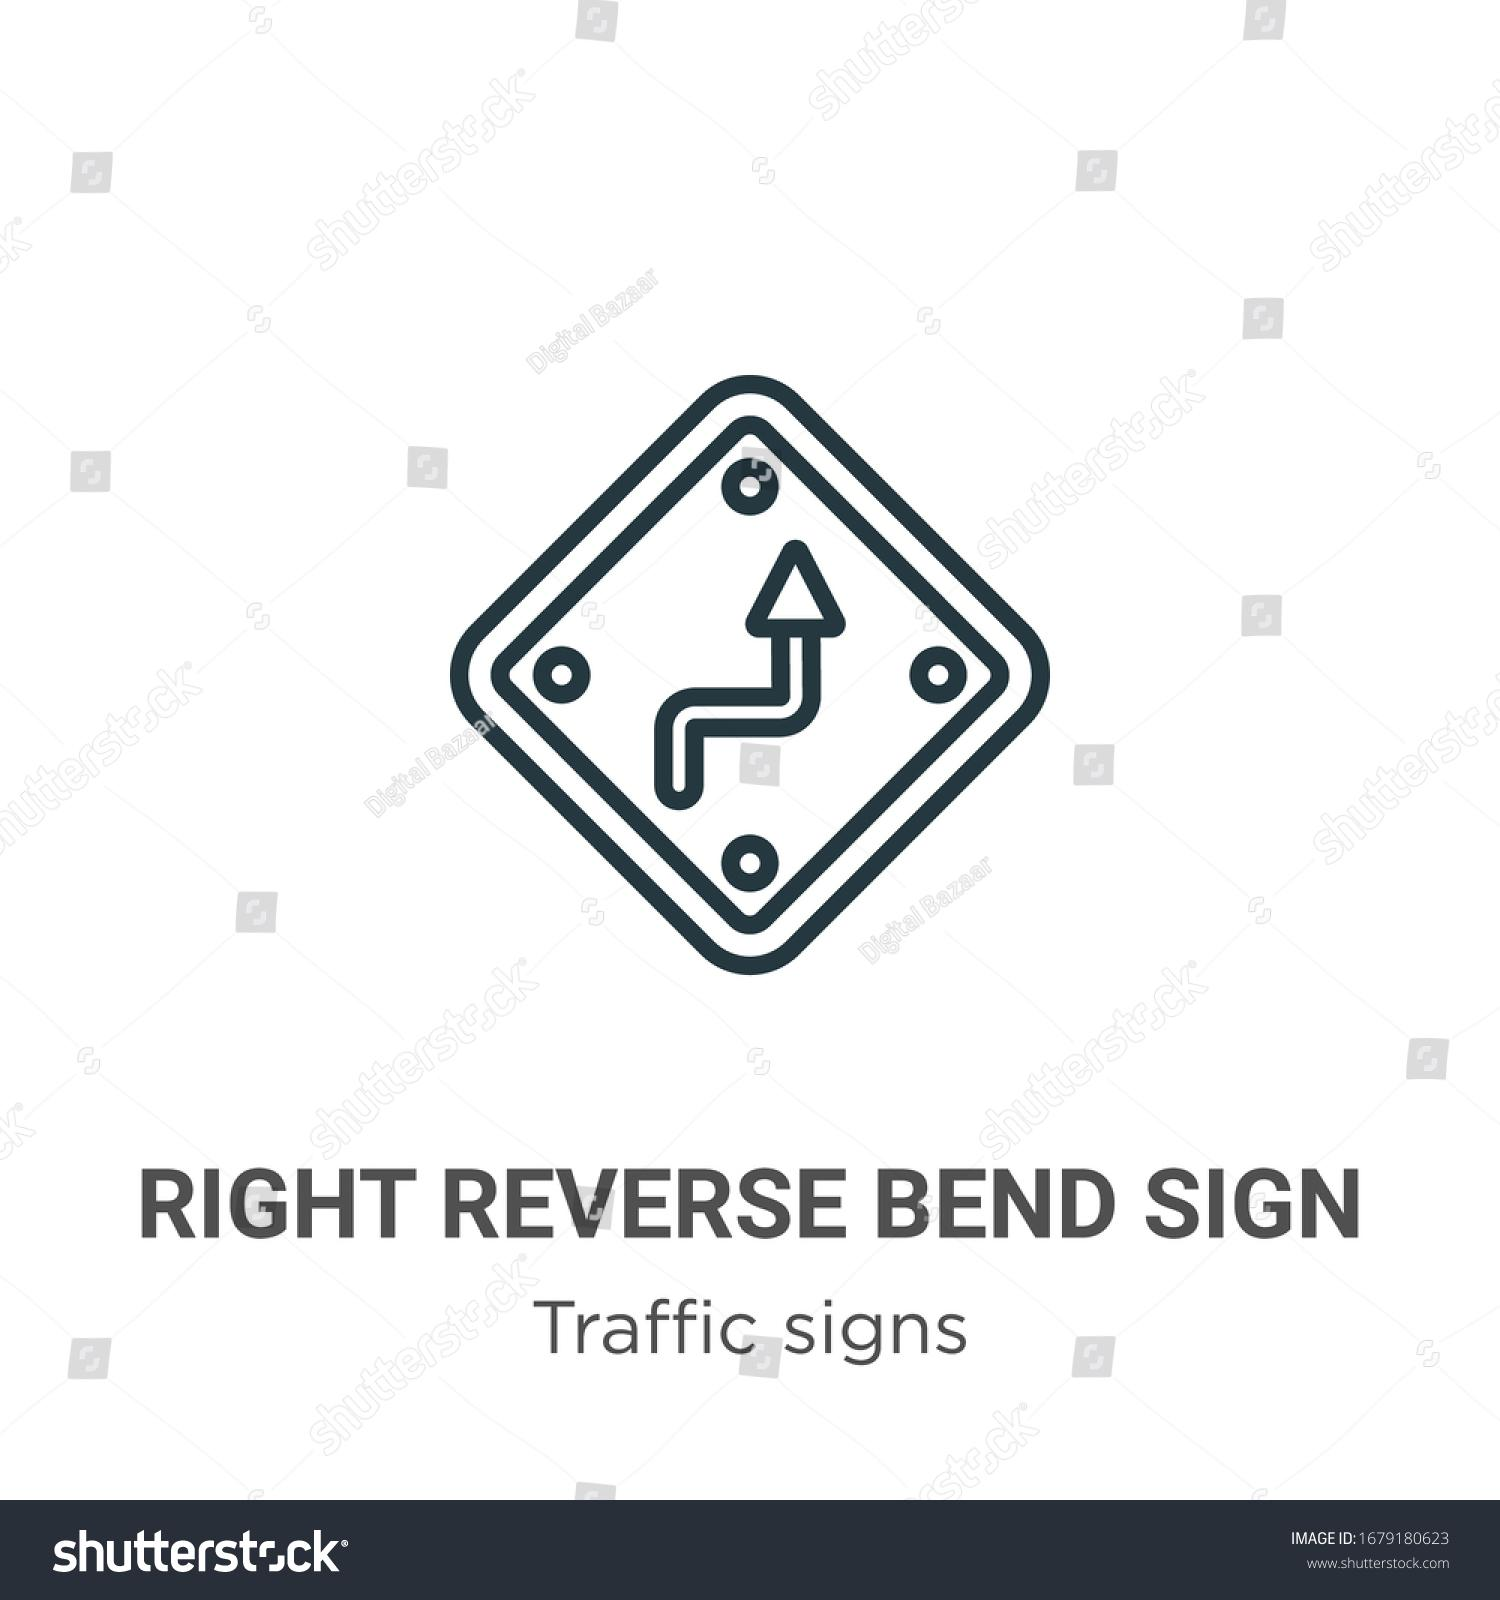Right Reverse Bend: (354, 320, 1095, 1009)
